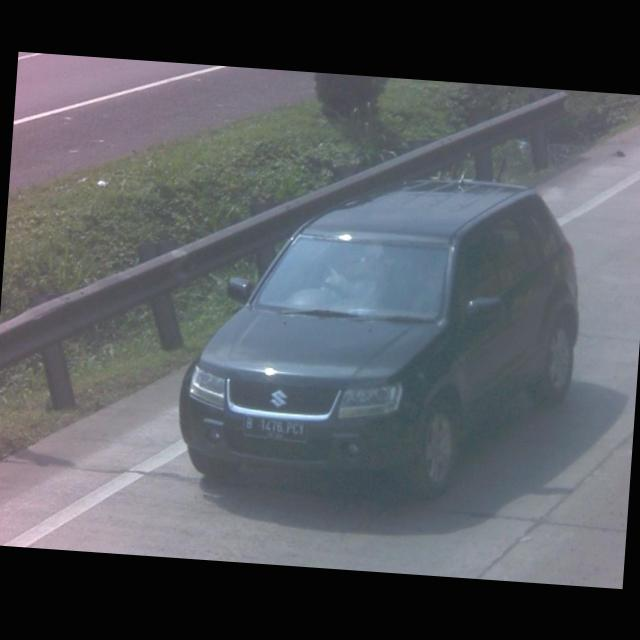plate: (239, 412, 309, 444)
